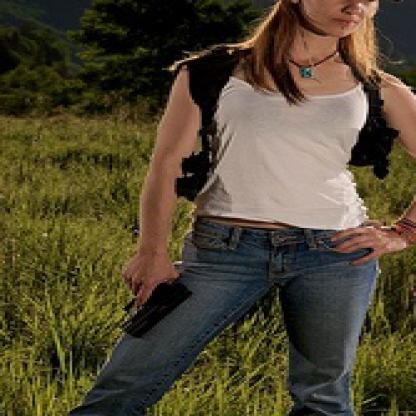gun: (110, 270, 197, 332)
